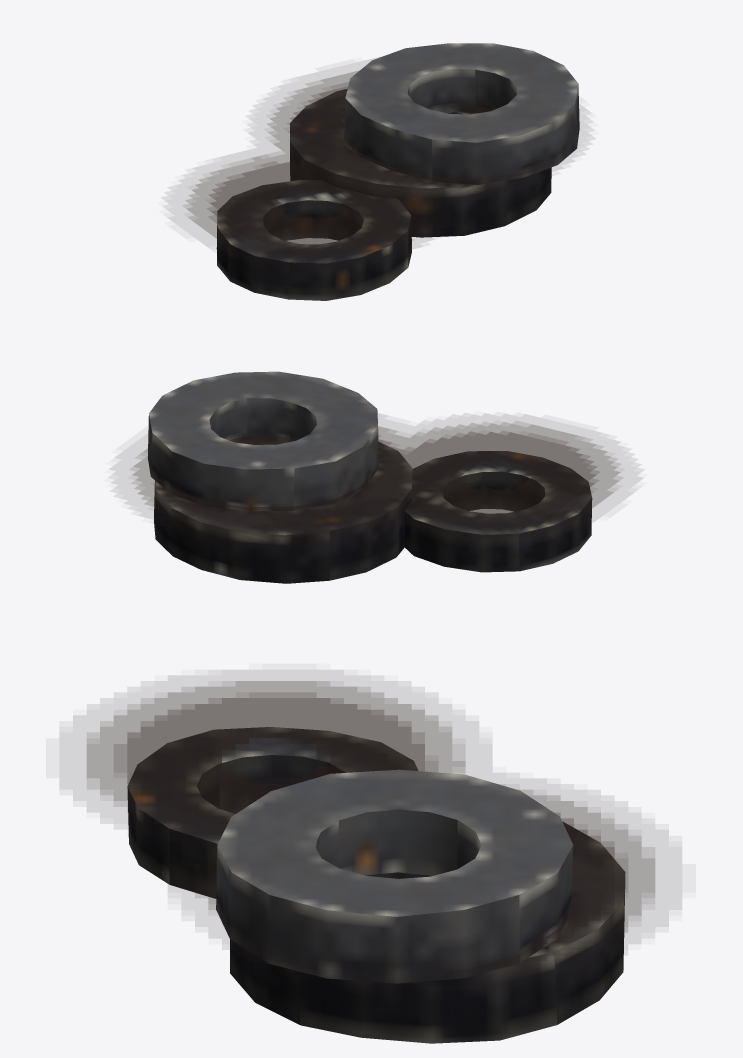
3 renders of one model, top to bottom at view 1: azimuth 30°, elevation 25°; view 2: azimuth 150°, elevation 25°; view 3: azimuth 270°, elevation 25°, orthographic. The views are drawn at different scales.
Visible parts, largest first — view 1: Tyre, GroundShade; view 2: Tyre, GroundShade; view 3: Tyre, GroundShade.
Part boxes in pixels (left/top/right/bottom): Tyre: left=216, top=43, right=579, bottom=300; GroundShade: left=166, top=57, right=590, bottom=266; Tyre: left=148, top=371, right=592, bottom=583; GroundShade: left=111, top=413, right=642, bottom=547; Tyre: left=127, top=727, right=625, bottom=1043; GroundShade: left=60, top=670, right=681, bottom=983.
Bounding box in the file's own units: 7.55 × 1.43 × 6.45.
Materials: 2 (2 with a texture image).
